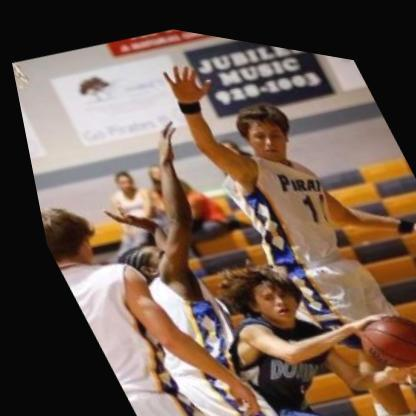basketball: (330, 282, 416, 378)
